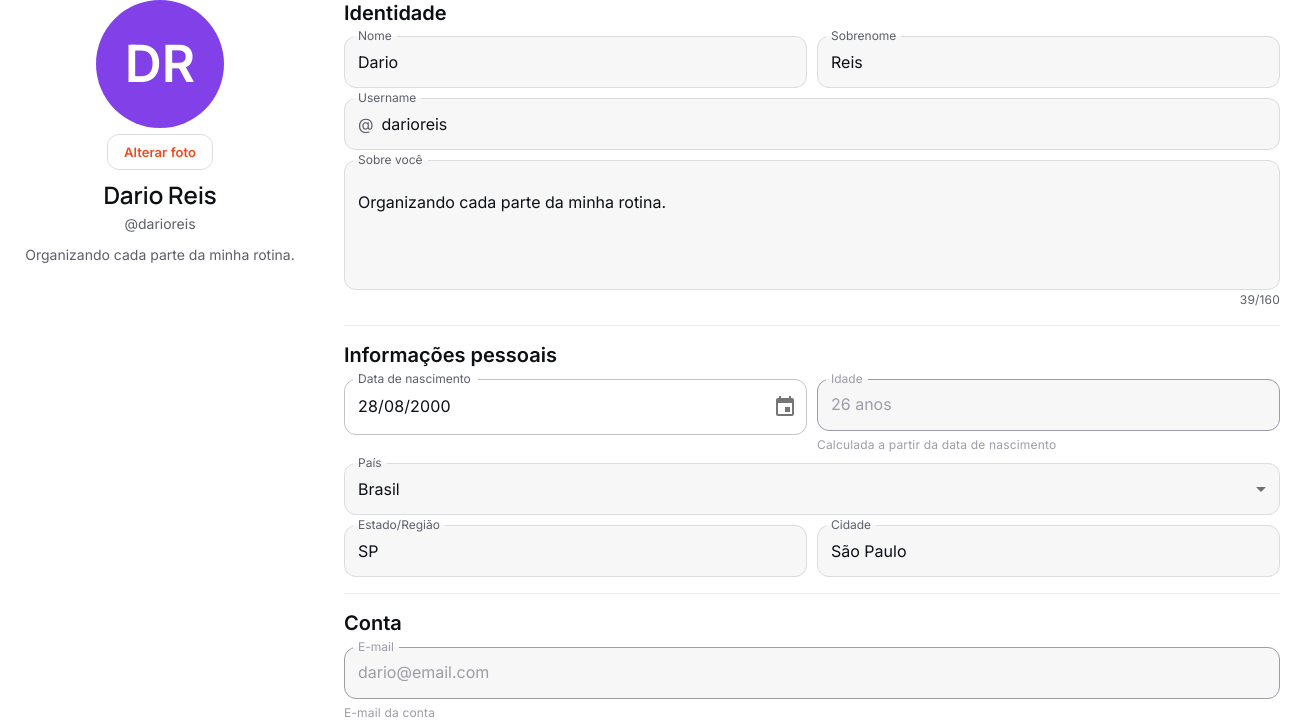
Test: ProfileForm › rejects an invalid username format
Replace the text in the field labelled "Username" with "da". click: (831, 124)
box: [382,99,1280,150]
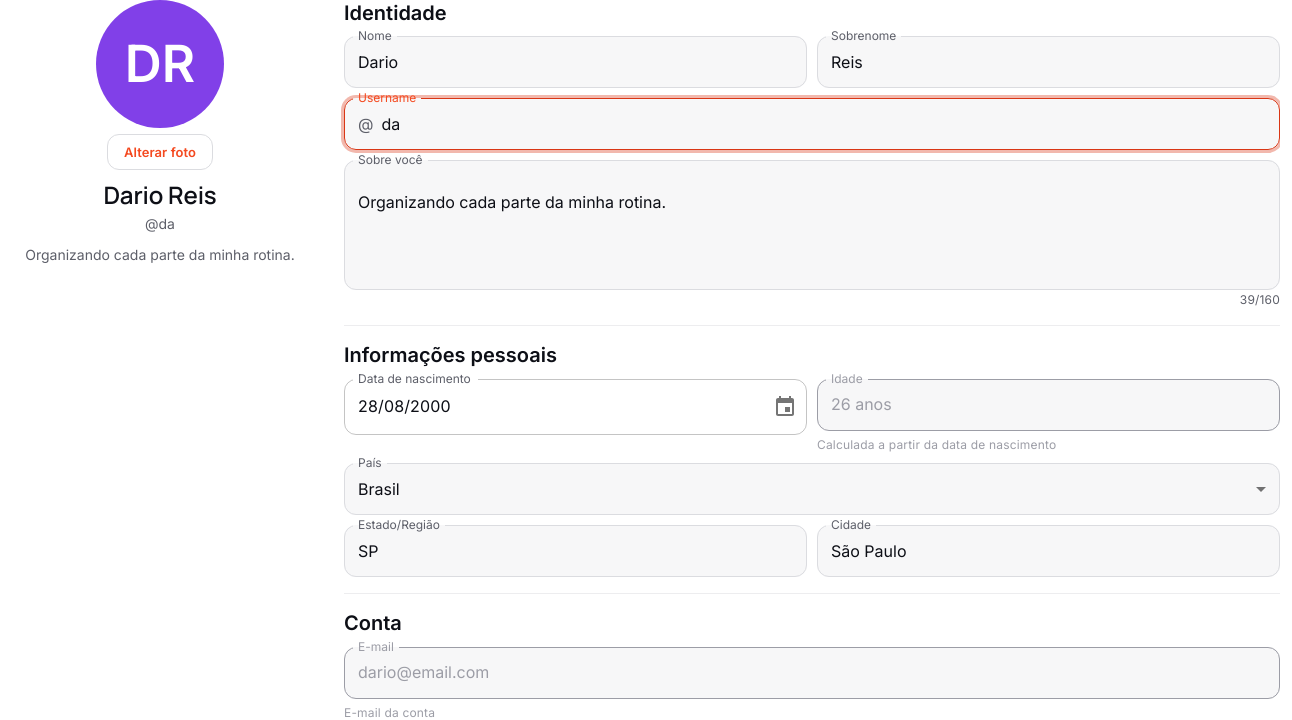
Press Tab
(page scrolled)
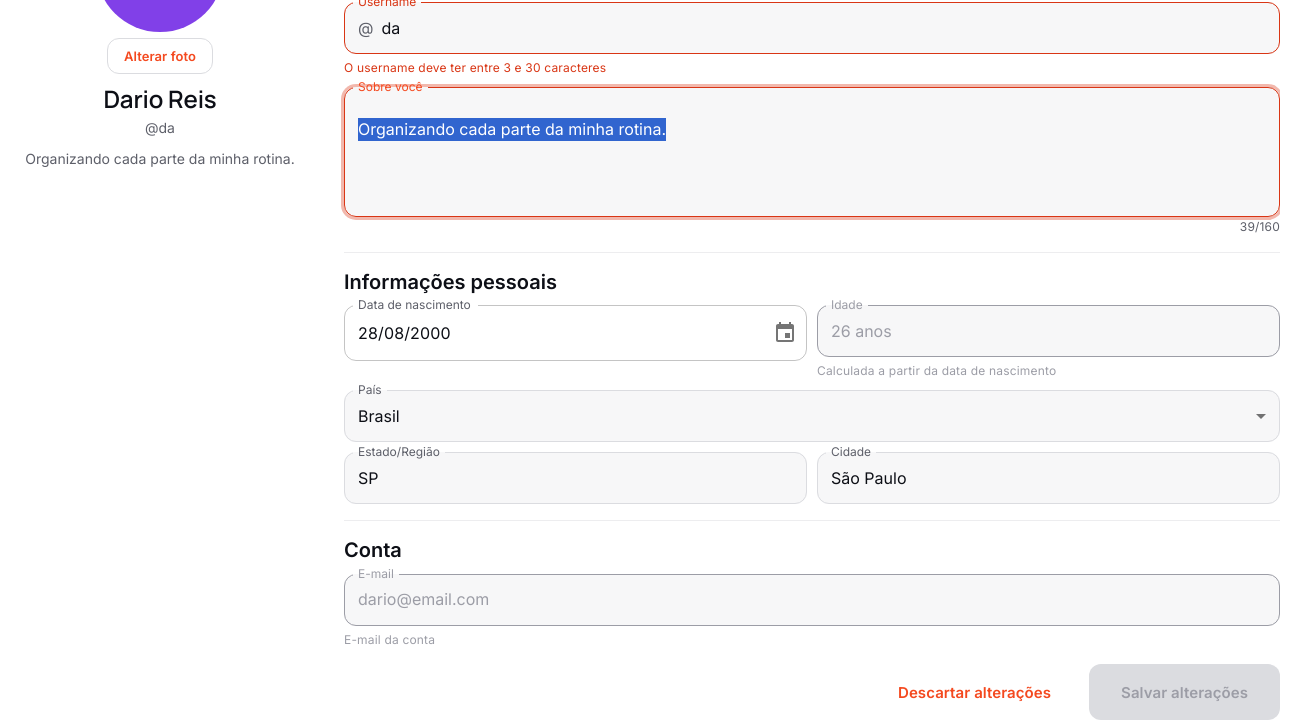
Check: the text "O username deve ter entre 3 e 30 caracteres" is shown, box [344,60,606,75]
Check: the button "Salvar alterações" is disabled, box [1089,664,1280,719]
